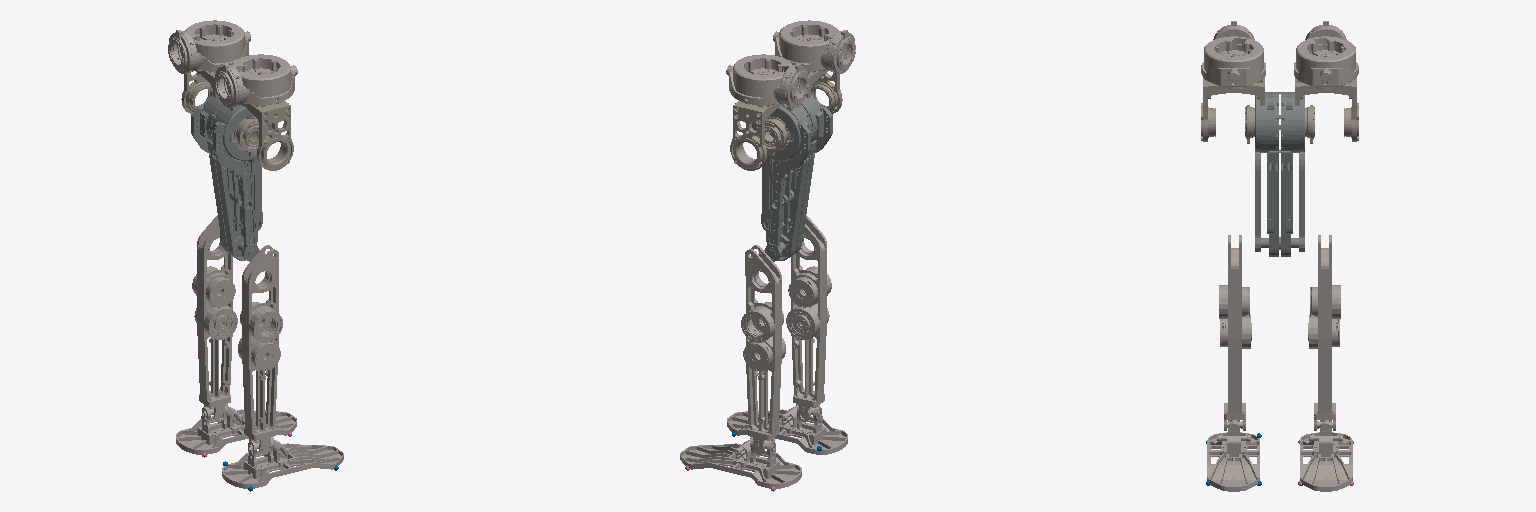
The robot description file, URDF, robot "biped_v3":
<?xml version="1.0" ?>
<!-- =================================================================================== -->
<!-- |    This document was autogenerated by xacro from [local-path]/workspace/kuavo-ros-control/src/humanoid-control/humanoid_interface_drake/models/biped_gen4.2/urdf/biped_v3.xacro | -->
<!-- |    EDITING THIS FILE BY HAND IS NOT RECOMMENDED                                 | -->
<!-- =================================================================================== -->
<robot name="biped_v3" xmlns:drake="https://drake.mit.edu">
  <link name="torso">
    <inertial>
      <origin rpy="0 0 0" xyz="0.00383143 0.0 0.18350901"/>
      <mass value="35.0584395"/>
      <inertia ixx="0.95851611" ixy="0.00026968" ixz="0.06381351" iyy="0.83635568" iyz="0.00069789" izz="0.29474019"/>
    </inertial>
    <visual>
      <origin rpy="0 0 0" xyz="0 0 0"/>
      <geometry>
        <mesh filename="../../meshes/base_link.STL"/>
      </geometry>
      <material name="">
        <color rgba="0.43137 0.45098 0.43137 1"/>
      </material>
    </visual>
    <!-- <collision>
      <origin xyz="0 0 0" rpy="0 0 0" />
      <geometry>
        <mesh filename="../../meshes/base_link.STL" />
      </geometry>
    </collision> -->
  </link>
  <link name="l_leg_roll">
    <inertial>
      <origin rpy="0 0 0" xyz="-0.00430148 -0.00002708 -0.00851195"/>
      <mass value="1.71093115"/>
      <inertia ixx="0.00206092" ixy="-0.00000197" ixz="-0.00006944" iyy="0.00277274" iyz="0.00000510" izz="0.00370826"/>
    </inertial>
    <visual>
      <origin rpy="0 0 0" xyz="0 0 0"/>
      <geometry>
        <mesh filename="../../meshes/l_leg_roll.STL"/>
      </geometry>
      <material name="">
        <color rgba="0.6902 0.65882 0.63922 1"/>
      </material>
    </visual>
  </link>
  <joint name="l_leg_roll_joint" type="continuous">
    <origin rpy="0 0 0" xyz="-0.0024999 0.087 -0.066"/>
    <parent link="torso"/>
    <child link="l_leg_roll"/>
    <axis xyz="1 0 0"/>
    <limit effort="100" lower="-0.78" upper="1.57" velocity="25"/>
  </joint>
  <!--        ssss -->
  <transmission type="SimpleTransmission">
    <joint name="l_leg_roll_joint"/>
    <actuator name="l_leg_roll_motor"/>
  </transmission>
  <!-- sssssssss -->
  <link name="l_leg_yaw">
    <inertial>
      <origin rpy="0 0 0" xyz="0.00000000 -0.00322560 -0.09080869"/>
      <mass value="0.55762936"/>
      <inertia ixx="0.00213816" ixy="0.00000000" ixz="-0.00000003" iyy="0.00118284" iyz="0.00004162" izz="0.00139547"/>
    </inertial>
    <visual>
      <origin rpy="0 0 0" xyz="0 0 0"/>
      <geometry>
        <mesh filename="../../meshes/l_leg_yaw.STL"/>
      </geometry>
      <material name="">
        <color rgba="0.65098 0.61961 0.58824 1"/>
      </material>
    </visual>
  </link>
  <joint name="l_leg_yaw_joint" type="continuous">
    <origin rpy="0 0 0" xyz="0 0 0"/>
    <parent link="l_leg_roll"/>
    <child link="l_leg_yaw"/>
    <axis xyz="0 0 1"/>
    <limit effort="100" lower="-1.57" upper="1.57" velocity="25"/>
  </joint>
  <!--        ssss -->
  <transmission type="SimpleTransmission">
    <joint name="l_leg_yaw_joint"/>
    <actuator name="l_leg_yaw_motor"/>
  </transmission>
  <!-- sssssssss -->
  <link name="l_leg_pitch">
    <inertial>
      <origin rpy="0 0 0" xyz="0.00185677 0.01023458 -0.08558380"/>
      <mass value="4.43577451"/>
      <inertia ixx="0.04271209" ixy="-0.00000777" ixz="-0.00143032" iyy="0.04341831" iyz="-0.00092942" izz="0.01102339"/>
    </inertial>
    <visual>
      <origin rpy="0 0 0" xyz="0 0 0"/>
      <geometry>
        <mesh filename="../../meshes/l_leg_pitch.STL"/>
      </geometry>
      <material name="">
        <color rgba="0.52941 0.54902 0.54902 1"/>
      </material>
    </visual>
  </link>
  <joint name="l_leg_pitch_joint" type="continuous">
    <origin rpy="0 0 0" xyz="0 0.0 -0.1287"/>
    <parent link="l_leg_yaw"/>
    <child link="l_leg_pitch"/>
    <axis xyz="0 1 0"/>
    <limit effort="100" lower="-2.35" upper="0.78" velocity="47"/>
  </joint>
  <!--        ssss -->
  <transmission type="SimpleTransmission">
    <joint name="l_leg_pitch_joint"/>
    <actuator name="l_leg_pitch_motor"/>
  </transmission>
  <!-- sssssssss -->
  <link name="l_knee">
    <inertial>
      <origin rpy="0 0 0" xyz="0.00716677 -0.00006696 -0.11481925"/>
      <mass value="1.61274530"/>
      <inertia ixx="0.01103699" ixy="0.00000084" ixz="-0.00000711" iyy="0.01095123" iyz="0.00000987" izz="0.00087225"/>
    </inertial>
    <visual>
      <origin rpy="0 0 0" xyz="0 0 0"/>
      <geometry>
        <mesh filename="../../meshes/l_knee.STL"/>
      </geometry>
      <material name="">
        <color rgba="0.68627 0.65882 0.63922 1"/>
      </material>
    </visual>
  </link>
  <joint name="l_knee_pitch_joint" type="revolute">
    <origin rpy="0 0 0" xyz="0.0 0.0 -0.284"/>
    <parent link="l_leg_pitch"/>
    <child link="l_knee"/>
    <axis xyz="0 1 0"/>
    <limit effort="100" lower="0.0" upper="2.618" velocity="47"/>
  </joint>
  <!--        ssss -->
  <transmission type="SimpleTransmission">
    <joint name="l_knee_pitch_joint"/>
    <actuator name="l_knee_pitch_motor"/>
  </transmission>
  <!-- sssssssss -->
  <link name="l_foot_pitch">
    <inertial>
      <origin rpy="0 0 0" xyz="0.00000000 0.00000000 0"/>
      <mass value="0.07193524"/>
      <inertia ixx="0.00000692" ixy="0.00000000" ixz="0.00000000" iyy="0.00000692" iyz="0.00000000" izz="0.00001218"/>
    </inertial>
    <visual>
      <origin rpy="0 0 0" xyz="0 0 0"/>
      <geometry>
        <mesh filename="../../meshes/l_foot_pitch.STL"/>
      </geometry>
      <material name="">
        <color rgba="0.6902 0.65882 0.63922 1"/>
      </material>
    </visual>
  </link>
  <joint name="l_foot_pitch_joint" type="continuous">
    <origin rpy="0 0 0" xyz="0 0.0 -0.346"/>
    <parent link="l_knee"/>
    <child link="l_foot_pitch"/>
    <axis xyz="0 1 0"/>
    <limit effort="100" lower="-1.57" upper="1.57" velocity="25"/>
  </joint>
  <transmission type="SimpleTransmission">
    <joint name="l_foot_pitch_joint"/>
    <actuator name="l_foot_pitch_motor"/>
  </transmission>
  <!-- sssssssss -->
  <link name="l_foot_roll">
    <inertial>
      <origin rpy="0 0 0" xyz="0.03730703 -0.00000226 -0.03934407"/>
      <mass value="0.49004366"/>
      <inertia ixx="0.00037622" ixy="-0.00000003" ixz="-0.00004693" iyy="0.00157919" iyz="0.00000000" izz="0.00171680"/>
    </inertial>
    <visual>
      <origin rpy="0 0 0" xyz="0 0 0"/>
      <geometry>
        <mesh filename="../../meshes/l_foot_roll.STL"/>
      </geometry>
      <material name="">
        <color rgba="0.6902 0.65882 0.63922 1"/>
      </material>
    </visual>
    <visual>
      <origin rpy="0 0 0" xyz="-0.04937 0.04773 -0.0593"/>
      <geometry>
        <sphere radius="0.005"/>
      </geometry>
    </visual>
    <collision>
      <origin rpy="0 0 0" xyz="-0.04937 0.04773 -0.0593"/>
      <geometry>
        <sphere radius="0.005"/>
      </geometry>
    </collision>
    <visual>
      <origin rpy="0 0 0" xyz="-0.04937 -0.04773 -0.0593"/>
      <geometry>
        <sphere radius="0.005"/>
      </geometry>
    </visual>
    <collision>
      <origin rpy="0 0 0" xyz="-0.04937 -0.04773 -0.0593"/>
      <geometry>
        <sphere radius="0.005"/>
      </geometry>
    </collision>
    <visual>
      <origin rpy="0 0 0" xyz="0.13564 0.04773 -0.0593"/>
      <geometry>
        <sphere radius="0.005"/>
      </geometry>
    </visual>
    <collision>
      <origin rpy="0 0 0" xyz="0.13564 0.04773 -0.0593"/>
      <geometry>
        <sphere radius="0.005"/>
      </geometry>
    </collision>
    <visual>
      <origin rpy="0 0 0" xyz="0.13564 -0.04773 -0.0593"/>
      <geometry>
        <sphere radius="0.005"/>
      </geometry>
    </visual>
    <collision>
      <origin rpy="0 0 0" xyz="0.13564 -0.04773 -0.0593"/>
      <geometry>
        <sphere radius="0.005"/>
      </geometry>
    </collision>
  </link>
  <joint name="l_foot_roll_joint" type="continuous">
    <origin rpy="0 0 0" xyz="0 0 0"/>
    <parent link="l_foot_pitch"/>
    <child link="l_foot_roll"/>
    <axis xyz="1 0 0"/>
    <limit effort="100" lower="-1.39" upper="0.78" velocity="25"/>
  </joint>
  <transmission type="SimpleTransmission">
    <joint name="l_foot_roll_joint"/>
    <actuator name="l_foot_roll_motor"/>
  </transmission>
  <!-- sssssssss -->
  <frame link="l_foot_roll" name="l_foot_sole" xyz="0.04793 0.0 -0.0593"/>
  <frame link="l_foot_roll" name="l_foot_toe" xyz="0.16902 0.0 -0.0593"/>
  <frame link="l_foot_roll" name="l_foot_heel" xyz="-0.07316 0.0 -0.0593"/>
  <link name="r_leg_roll">
    <inertial>
      <origin rpy="0 0 0" xyz="0.00430146 0.00002709 -0.00851195"/>
      <mass value="1.71093008"/>
      <inertia ixx="0.00206092" ixy="0.00000197" ixz="-0.00006944" iyy="0.00277274" iyz="-0.00000510" izz="0.00370826"/>
    </inertial>
    <visual>
      <origin rpy="0 0 0" xyz="0 0 0"/>
      <geometry>
        <mesh filename="../../meshes/r_leg_roll.STL"/>
      </geometry>
      <material name="">
        <color rgba="0.6902 0.65882 0.63922 1"/>
      </material>
    </visual>
  </link>
  <joint name="r_leg_roll_joint" type="continuous">
    <origin rpy="0 0 0" xyz="-0.0024999 -0.087 -0.066"/>
    <parent link="torso"/>
    <child link="r_leg_roll"/>
    <axis xyz="1 0 0"/>
    <limit effort="100" lower="-1.57" upper="0.78" velocity="25"/>
  </joint>
  <!--        ssss -->
  <transmission type="SimpleTransmission">
    <joint name="r_leg_roll_joint"/>
    <actuator name="r_leg_roll_motor"/>
  </transmission>
  <!-- sssssssss -->
  <link name="r_leg_yaw">
    <inertial>
      <origin rpy="0 0 0" xyz="0.00000000 0.00322561 -0.09080869"/>
      <mass value="0.55762928"/>
      <inertia ixx="0.00213816" ixy="0.00000000" ixz="-0.00000003" iyy="0.00118284" iyz="-0.00004162" izz="0.00139547"/>
    </inertial>
    <visual>
      <origin rpy="0 0 0" xyz="0 0 0"/>
      <geometry>
        <mesh filename="../../meshes/r_leg_yaw.STL"/>
      </geometry>
      <material name="">
        <color rgba="0.650980392156863 0.619607843137255 0.588235294117647 1"/>
      </material>
    </visual>
  </link>
  <joint name="r_leg_yaw_joint" type="continuous">
    <origin rpy="0 0 0" xyz="0.0 0.0 0.0"/>
    <parent link="r_leg_roll"/>
    <child link="r_leg_yaw"/>
    <axis xyz="0 0 1"/>
    <limit effort="100" lower="-1.57" upper="1.57" velocity="25"/>
  </joint>
  <!--        ssss -->
  <transmission type="SimpleTransmission">
    <joint name="r_leg_yaw_joint"/>
    <actuator name="r_leg_yaw_motor"/>
  </transmission>
  <!-- sssssssss -->
  <link name="r_leg_pitch">
    <inertial>
      <origin rpy="0 0 0" xyz="0.00185677 -0.01023458 -0.08558380"/>
      <mass value="4.43577451"/>
      <inertia ixx="0.04271209" ixy="-0.00000777" ixz="-0.00143032" iyy="0.04420935" iyz="-0.00092942" izz="0.01102339"/>
    </inertial>
    <visual>
      <origin rpy="0 0 0" xyz="0 0 0"/>
      <geometry>
        <mesh filename="../../meshes/r_leg_pitch.STL"/>
      </geometry>
      <material name="">
        <color rgba="0.529411764705882 0.549019607843137 0.549019607843137 1"/>
      </material>
    </visual>
  </link>
  <joint name="r_leg_pitch_joint" type="continuous">
    <origin rpy="0 0 0" xyz="0 0 -0.1287"/>
    <parent link="r_leg_yaw"/>
    <child link="r_leg_pitch"/>
    <axis xyz="0 1 0"/>
    <limit effort="100" lower="-2.35" upper="0.78" velocity="47"/>
  </joint>
  <!--        ssss -->
  <transmission type="SimpleTransmission">
    <joint name="r_leg_pitch_joint"/>
    <actuator name="r_leg_pitch_motor"/>
  </transmission>
  <!-- sssssssss -->
  <link name="r_knee">
    <inertial>
      <origin rpy="0 0 0" xyz="0.00716677 0.00006696 -0.11481925"/>
      <mass value="1.61274530"/>
      <inertia ixx="0.01103699" ixy="0.00000084" ixz="-0.00000711" iyy="0.01095123" iyz="0.00000987" izz="0.00087225"/>
    </inertial>
    <visual>
      <origin rpy="0 0 0" xyz="0 0 0"/>
      <geometry>
        <mesh filename="../../meshes/r_knee.STL"/>
      </geometry>
      <material name="">
        <color rgba="0.686274509803922 0.658823529411765 0.63921568627451 1"/>
      </material>
    </visual>
  </link>
  <joint name="r_knee_pitch_joint" type="revolute">
    <origin rpy="0 0 0" xyz="0 0 -0.284"/>
    <parent link="r_leg_pitch"/>
    <child link="r_knee"/>
    <axis xyz="0 1 0"/>
    <limit effort="100" lower="0.0" upper="2.618" velocity="47"/>
  </joint>
  <!--        ssss -->
  <transmission type="SimpleTransmission">
    <joint name="r_knee_pitch_joint"/>
    <actuator name="r_knee_pitch_motor"/>
  </transmission>
  <!-- sssssssss -->
  <link name="r_foot_pitch">
    <inertial>
      <origin rpy="0 0 0" xyz="0 0.00000000 0"/>
      <mass value="0.07193524"/>
      <inertia ixx="0.00000692" ixy="0" ixz="0" iyy="0.00000692" iyz="0" izz="0.00001218"/>
    </inertial>
    <visual>
      <origin rpy="0 0 0" xyz="0 0 0"/>
      <geometry>
        <mesh filename="../../meshes/r_foot_pitch.STL"/>
      </geometry>
      <material name="">
        <color rgba="0.690196078431373 0.658823529411765 0.63921568627451 1"/>
      </material>
    </visual>
  </link>
  <joint name="r_foot_pitch_joint" type="continuous">
    <origin rpy="0 0 0" xyz="0 0 -0.346"/>
    <parent link="r_knee"/>
    <child link="r_foot_pitch"/>
    <axis xyz="0 1 0"/>
    <limit effort="100" lower="-1.57" upper="1.57" velocity="25"/>
  </joint>
  <!--        ssss -->
  <transmission type="SimpleTransmission">
    <joint name="r_foot_pitch_joint"/>
    <actuator name="r_foot_pitch_motor"/>
  </transmission>
  <!-- sssssssss -->
  <link name="r_foot_roll">
    <inertial>
      <origin rpy="0 0 0" xyz="0.03730703 0.00000225 -0.03934407"/>
      <mass value="0.49004366"/>
      <inertia ixx="0.00037622" ixy="0.00000003" ixz="-0.00004693" iyy="0.00157919" iyz="0.00000000" izz="0.00171680"/>
    </inertial>
    <visual>
      <origin rpy="0 0 0" xyz="0 0 0"/>
      <geometry>
        <mesh filename="../../meshes/r_foot_roll.STL"/>
      </geometry>
      <material name="">
        <color rgba="0.690196078431373 0.658823529411765 0.63921568627451 1"/>
      </material>
    </visual>
    <visual>
      <origin rpy="0 0 0" xyz="-0.04937 0.04773 -0.0465"/>
      <geometry>
        <sphere radius="0.005"/>
      </geometry>
    </visual>
    <collision>
      <origin rpy="0 0 0" xyz="-0.04937 0.04773 -0.0593"/>
      <geometry>
        <sphere radius="0.005"/>
      </geometry>
    </collision>
    <visual>
      <origin rpy="0 0 0" xyz="-0.04937 -0.04773 -0.0593"/>
      <geometry>
        <sphere radius="0.005"/>
      </geometry>
    </visual>
    <collision>
      <origin rpy="0 0 0" xyz="-0.04937 -0.04773 -0.0593"/>
      <geometry>
        <sphere radius="0.005"/>
      </geometry>
    </collision>
    <visual>
      <origin rpy="0 0 0" xyz="0.13564 0.04773 -0.0593"/>
      <geometry>
        <sphere radius="0.005"/>
      </geometry>
    </visual>
    <collision>
      <origin rpy="0 0 0" xyz="0.13564 0.04773 -0.0593"/>
      <geometry>
        <sphere radius="0.005"/>
      </geometry>
    </collision>
    <visual>
      <origin rpy="0 0 0" xyz="0.13564 -0.04773 -0.0593"/>
      <geometry>
        <sphere radius="0.005"/>
      </geometry>
    </visual>
    <collision>
      <origin rpy="0 0 0" xyz="0.13564 -0.04773 -0.0593"/>
      <geometry>
        <sphere radius="0.005"/>
      </geometry>
    </collision>
  </link>
  <joint name="r_foot_roll_joint" type="continuous">
    <origin rpy="0 0 0" xyz="0 0 0"/>
    <parent link="r_foot_pitch"/>
    <child link="r_foot_roll"/>
    <axis xyz="1 0 0"/>
    <limit effort="100" lower="-1.39" upper="0.78" velocity="25"/>
  </joint>
  <!--        ssss -->
  <transmission type="SimpleTransmission">
    <joint name="r_foot_roll_joint"/>
    <actuator name="r_foot_roll_motor"/>
  </transmission>
  <!-- sssssssss -->
  <frame link="r_foot_roll" name="r_foot_sole" xyz="0.04793 0.0 -0.0593"/>
  <frame link="r_foot_roll" name="r_foot_toe" xyz="0.16902 0.0 -0.0593"/>
  <frame link="r_foot_roll" name="r_foot_heel" xyz="-0.07316 -0.0 -0.0593"/>
</robot>

--- What the picture shows (computed from the rendered views, not written in the file) ---
3 views of the same robot in one strip: view 1: azimuth 30°, elevation 25°; view 2: azimuth 150°, elevation 25°; view 3: azimuth 270°, elevation 25° (orthographic).
Model biped_v3 with 13 links and 12 joints (2 revolute, 10 continuous), rooted at torso, posed all joints at 0.
Links seen in each view (by area): view 1: r_knee, l_knee, r_leg_pitch, r_leg_roll, r_foot_roll, l_leg_roll, l_leg_pitch, r_leg_yaw, l_foot_roll, l_leg_yaw; view 2: l_knee, r_knee, l_leg_pitch, l_leg_roll, l_foot_roll, r_leg_roll, r_leg_pitch, l_leg_yaw, r_foot_roll, r_leg_yaw; view 3: l_knee, r_knee, l_leg_pitch, r_leg_pitch, l_leg_roll, r_leg_roll, r_foot_roll, l_foot_roll, l_leg_yaw, r_leg_yaw.
Boxes of the visible links, x1,y1,x2,y2 form: r_knee: [238, 245, 282, 454]; l_knee: [192, 215, 237, 421]; r_leg_pitch: [200, 95, 262, 261]; r_leg_roll: [215, 54, 297, 107]; r_foot_roll: [222, 437, 343, 491]; l_leg_roll: [168, 20, 250, 73]; l_leg_pitch: [191, 105, 271, 260]; r_leg_yaw: [230, 101, 293, 170]; l_foot_roll: [176, 404, 296, 457]; l_leg_yaw: [181, 70, 217, 114]; l_knee: [741, 245, 785, 454]; r_knee: [786, 215, 831, 421]; l_leg_pitch: [761, 95, 823, 261]; l_leg_roll: [726, 54, 808, 107]; l_foot_roll: [680, 437, 801, 491]; r_leg_roll: [773, 20, 855, 73]; r_leg_pitch: [752, 105, 832, 260]; l_leg_yaw: [730, 101, 793, 170]; r_foot_roll: [727, 404, 847, 454]; r_leg_yaw: [806, 70, 842, 114]; l_knee: [1308, 235, 1340, 430]; r_knee: [1219, 235, 1251, 430]; l_leg_pitch: [1255, 92, 1304, 256]; r_leg_pitch: [1255, 92, 1304, 256]; l_leg_roll: [1294, 21, 1358, 89]; r_leg_roll: [1201, 21, 1265, 89]; r_foot_roll: [1206, 420, 1261, 491]; l_foot_roll: [1298, 420, 1353, 491]; l_leg_yaw: [1295, 78, 1358, 143]; r_leg_yaw: [1201, 78, 1264, 143].
Size in the robot's own frame: 0.2551 by 0.298 by 0.8695 metres.
Meshes: 13 distinct files referenced, 12 mesh visuals loaded (12 binary STL); not drawn: 1 (reference not matched to a file when rendering).